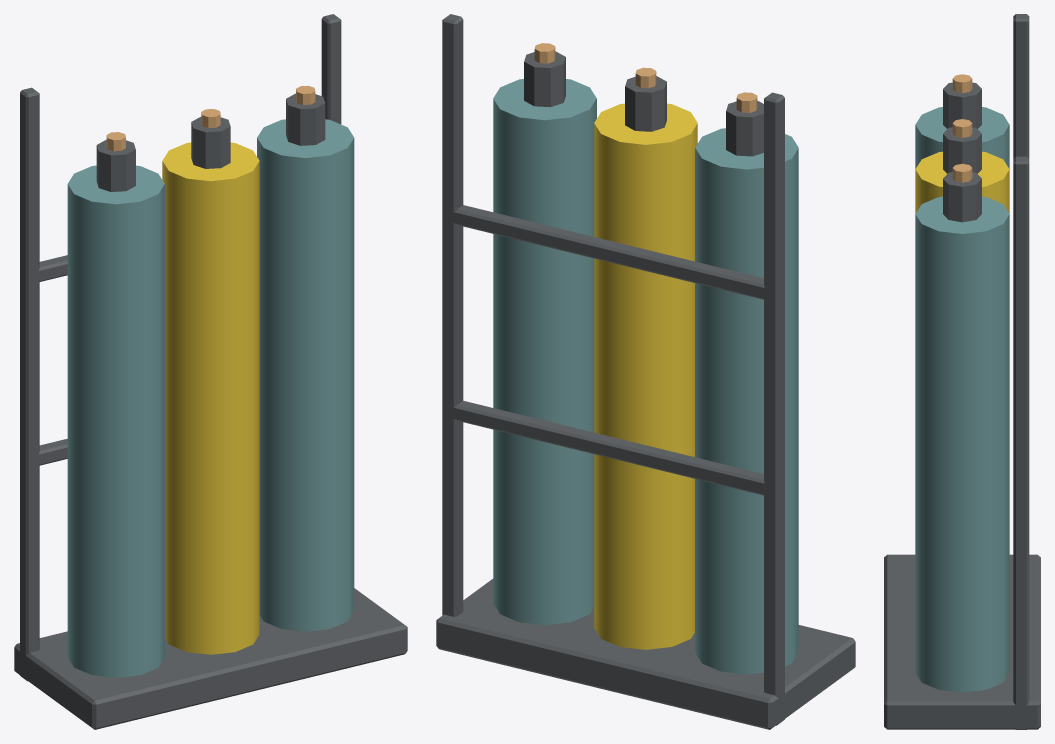
The model's file is gas_rack.glb.
3 renders of one model, left to right at view 1: azimuth 30°, elevation 25°; view 2: azimuth 150°, elevation 25°; view 3: azimuth 270°, elevation 25°, orthographic. The views are drawn at different scales.
Parts seen in each view (by area): view 1: gas_rack; view 2: gas_rack; view 3: gas_rack.
Part boxes in pixels (<box>): gas_rack: <box>14,14,407,729</box>; gas_rack: <box>436,14,855,729</box>; gas_rack: <box>884,14,1040,729</box>.
Size of the model in its own units: 0.9 by 1.6 by 0.4.
